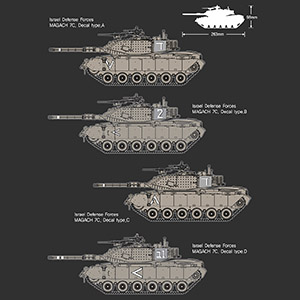Battle Tank: (91, 161, 257, 231), (46, 233, 208, 298), (45, 92, 207, 156), (48, 27, 209, 87)
